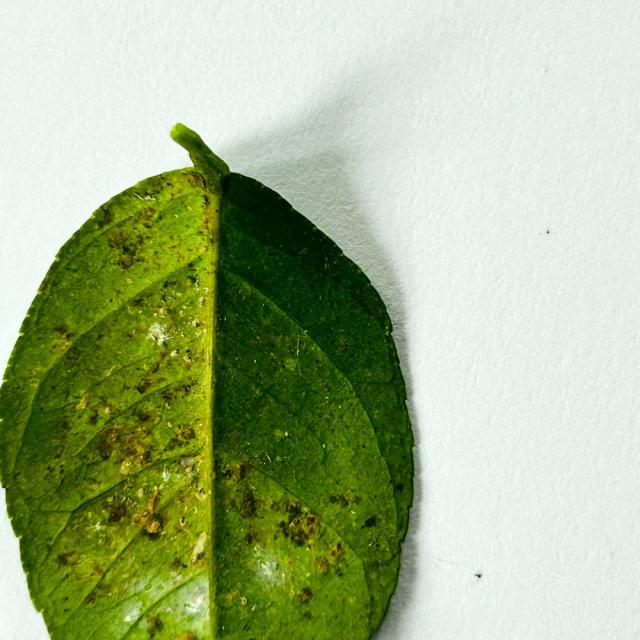Bacterial_Blight: (99, 465, 199, 548), (278, 497, 333, 550), (96, 418, 153, 466), (278, 503, 319, 547), (135, 488, 168, 535), (245, 328, 288, 364), (161, 420, 199, 457), (106, 226, 145, 261), (223, 588, 249, 612), (222, 462, 249, 484), (128, 290, 156, 311), (115, 246, 139, 270), (105, 500, 128, 524), (135, 205, 158, 225), (334, 491, 360, 508), (95, 437, 116, 458), (55, 550, 78, 567), (285, 502, 304, 522), (143, 524, 164, 540), (290, 529, 308, 547), (242, 500, 258, 518), (314, 557, 330, 575), (84, 409, 100, 426), (135, 379, 152, 395), (244, 526, 258, 545), (160, 388, 175, 405), (64, 347, 81, 362), (298, 589, 313, 604), (181, 427, 196, 441), (170, 555, 184, 570), (146, 615, 158, 632), (90, 563, 104, 577), (225, 496, 238, 511), (305, 514, 317, 529), (185, 275, 197, 287), (320, 381, 332, 391), (338, 339, 348, 350)
Lemon: (0, 124, 419, 639)
